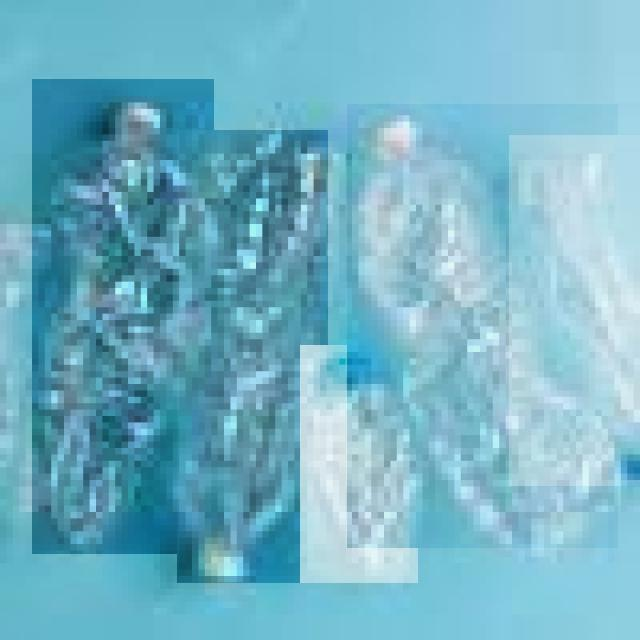BIODEGRADABLE: (347, 104, 618, 548), (32, 79, 214, 554), (177, 130, 328, 583), (509, 135, 640, 486), (300, 345, 418, 583)
